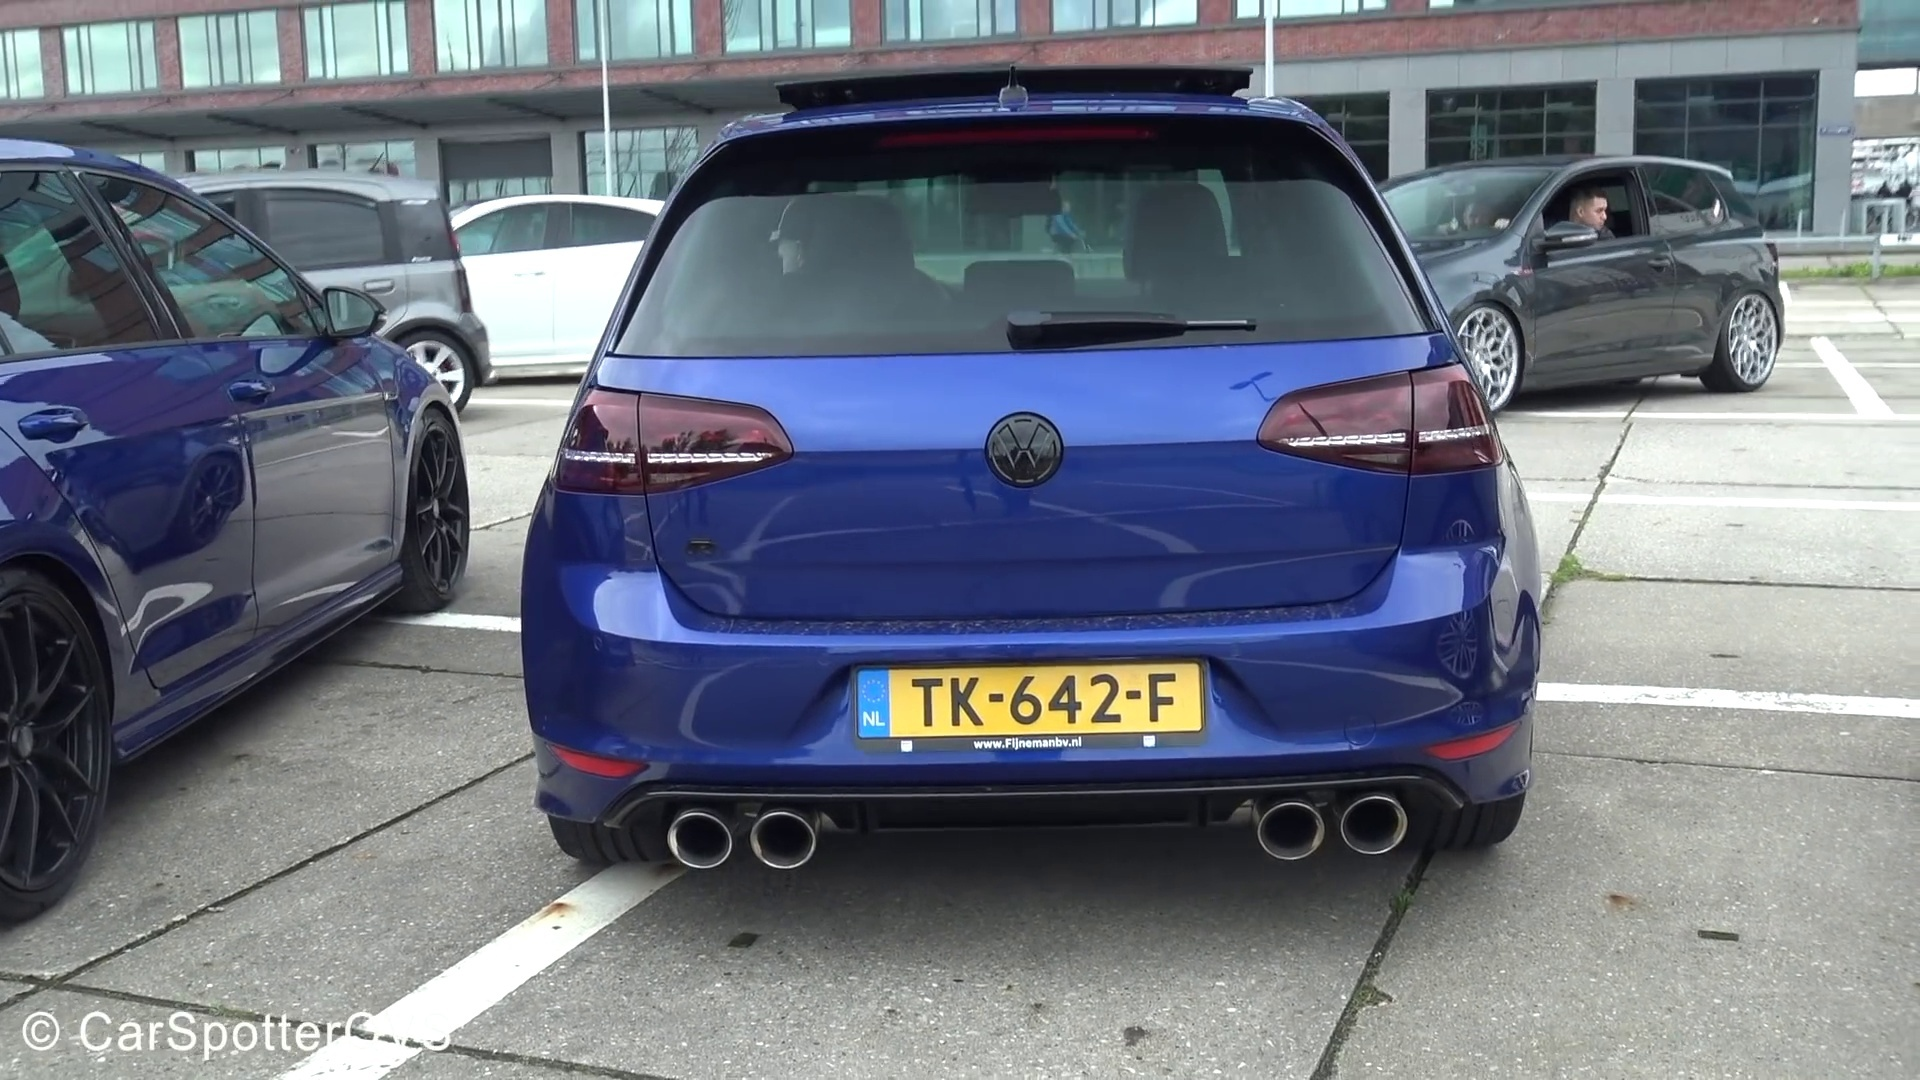number_plate: (856, 665, 1218, 751)
